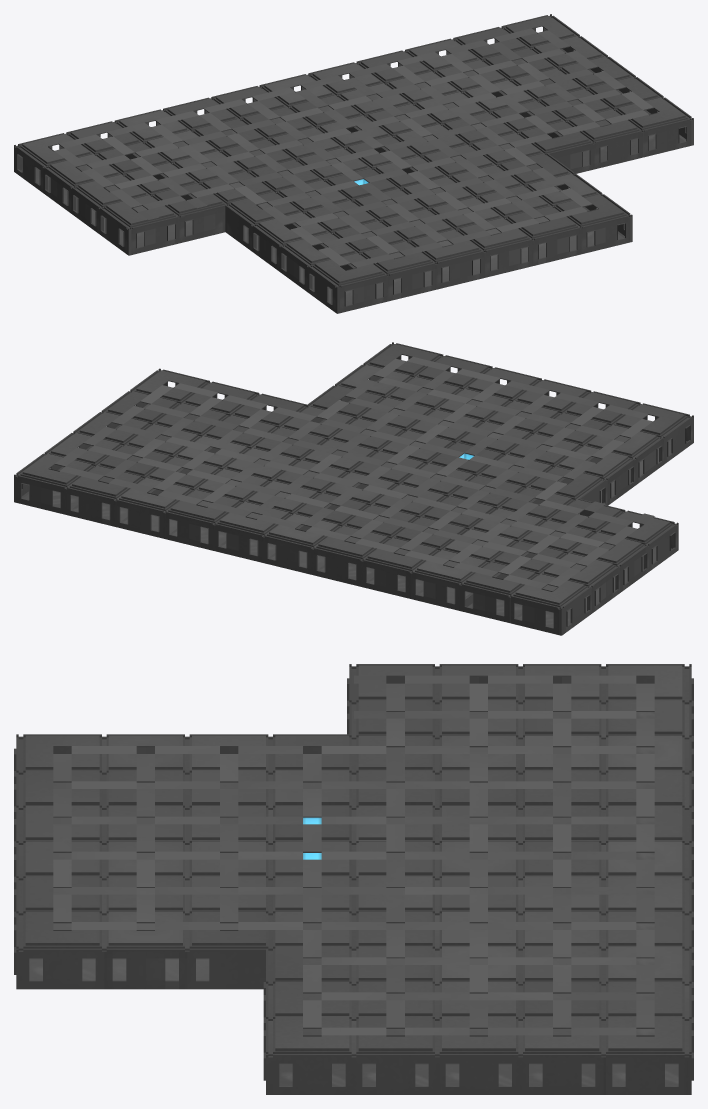
The model's file is vr_gallery_experiment.glb.
3 renders of one model, top to bottom at view 1: azimuth 30°, elevation 25°; view 2: azimuth 150°, elevation 25°; view 3: azimuth 270°, elevation 25°, orthographic. The views are drawn at different scales.
Parts seen in each view (by area): view 1: Object_3, Object_2, Object_4; view 2: Object_3, Object_2, Object_4, Object_5; view 3: Object_3, Object_2, Object_4.
Boxes of the visible parts, x1,y1,x2,y2 form: Object_3: (22,16,685,283); Object_2: (14,27,693,313); Object_4: (14,14,693,289); Object_3: (22,344,685,604); Object_2: (14,355,693,635); Object_4: (14,342,693,610); Object_5: (148,447,472,606); Object_3: (25,665,682,1051); Object_2: (14,677,693,1094); Object_4: (16,664,691,1057).
Size of the model in its own units: 61.26 by 3.18 by 44.81.
Materials: 1 (1 with a texture image).
